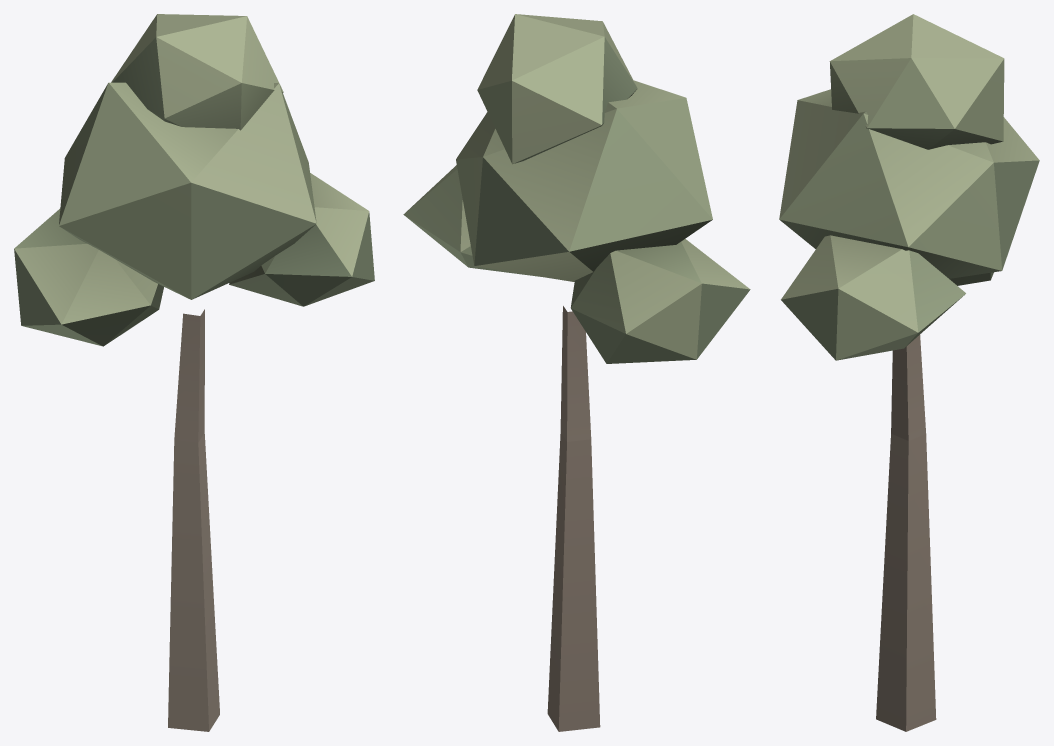
The model's file is tree.lod2.glb.
3 views of the same model, side by side, from view 1: azimuth 30°, elevation 25°; view 2: azimuth 150°, elevation 25°; view 3: azimuth 270°, elevation 25° (orthographic).
Bounding box in the file's own units: 2.91 × 6.06 × 2.08.
